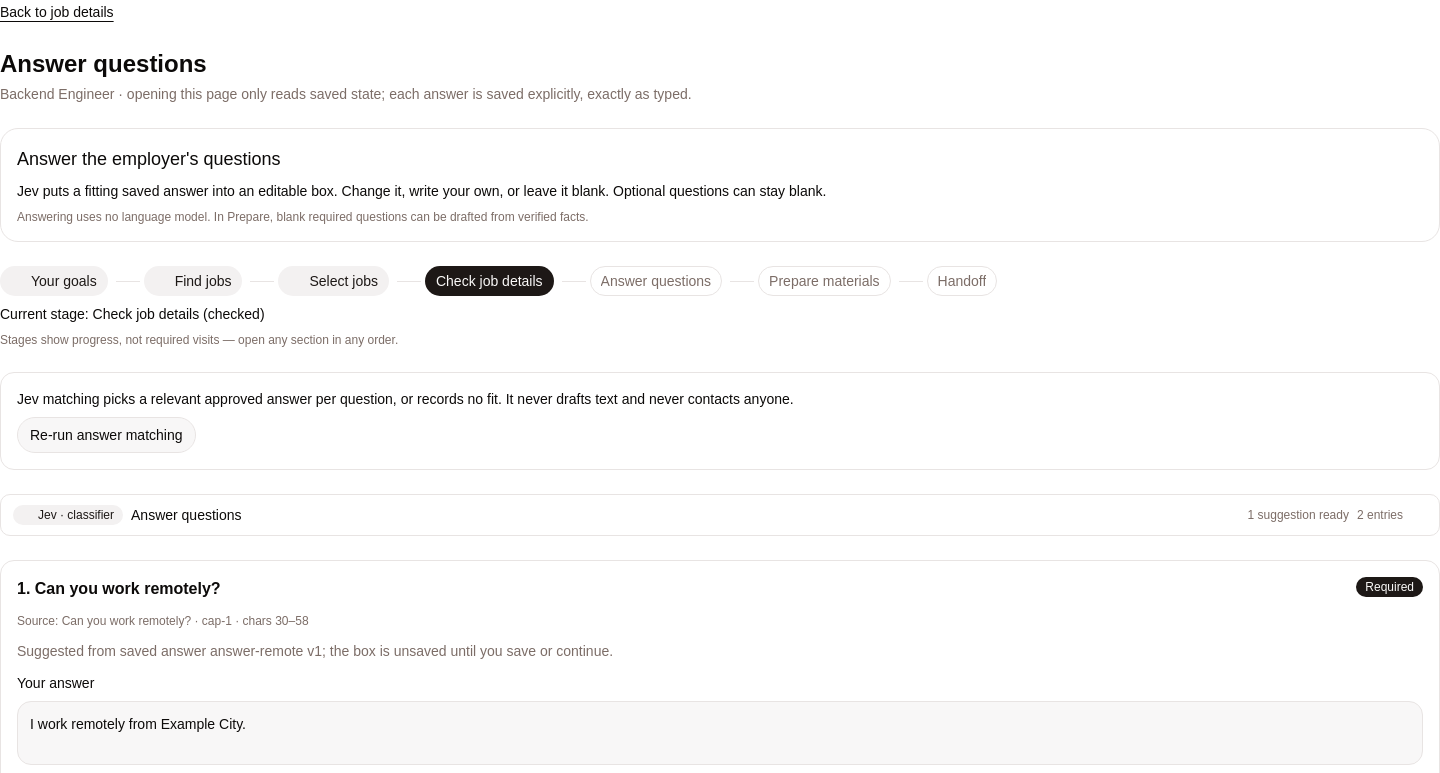
answers journey flow › records the Jev match outcome per question
Expected: the text box showing "I work remotely from Example City." is shown, top-left (17, 701), bottom-right (1423, 765)
Expected: the text "1 suggestion ready" is shown, top-left (1248, 507), bottom-right (1349, 523)
Click the button "Answer questions": (68, 515) top-left (1, 495), bottom-right (1439, 535)
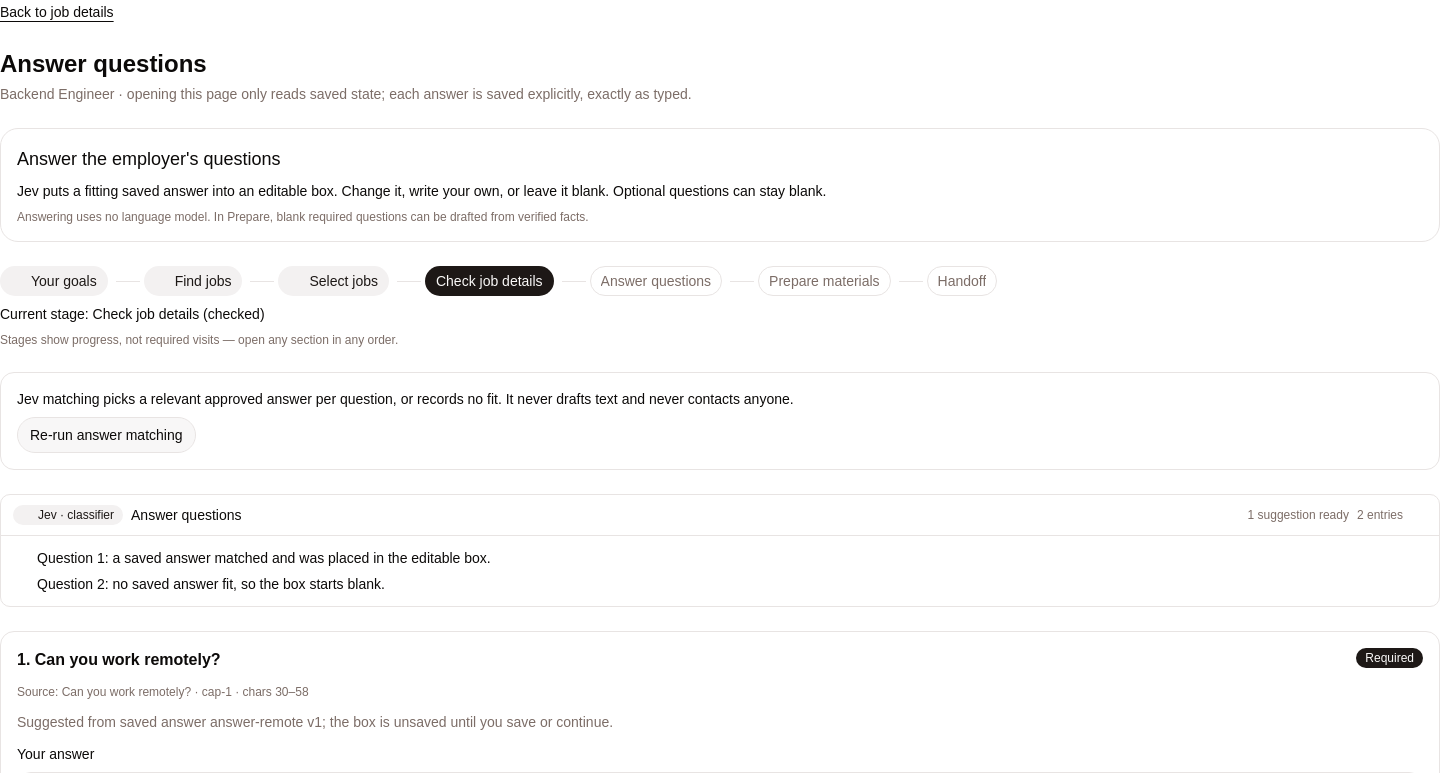
Now the text "a saved answer matched and was placed" is shown, box top-left (37, 550), bottom-right (491, 566)
Now the text "Question 2: no saved answer fit, so the box starts blank." is shown, box top-left (36, 575), bottom-right (385, 592)
